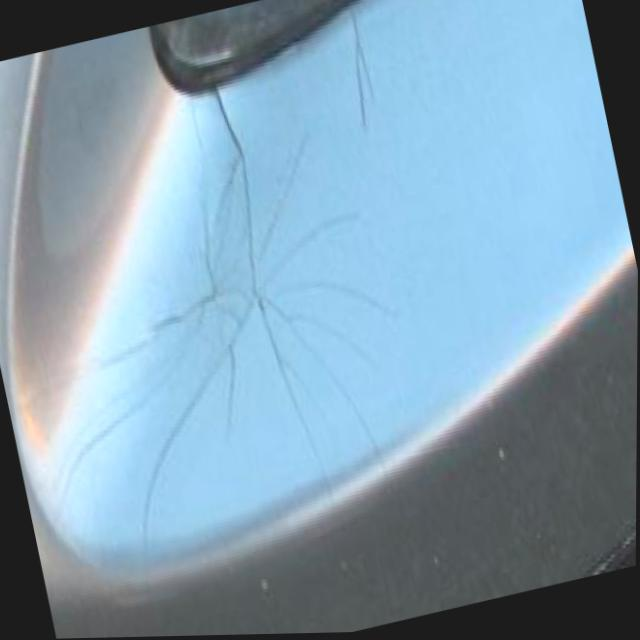Paint-Crack: (54, 83, 400, 563), (349, 8, 377, 134)
